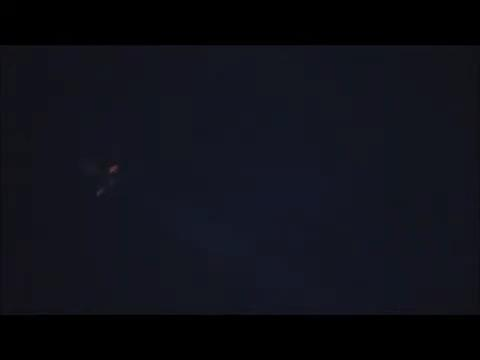Plane: (56, 147, 147, 206)
